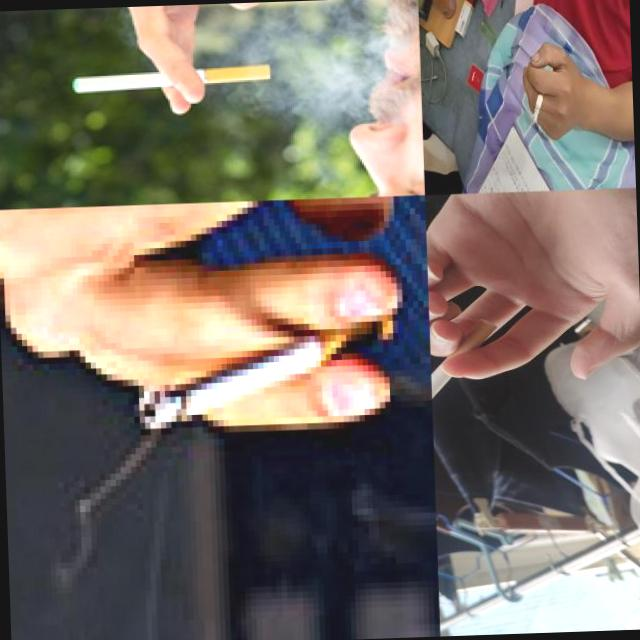cigarette: (134, 312, 399, 432), (429, 316, 502, 448), (71, 64, 272, 95), (532, 82, 546, 123)
